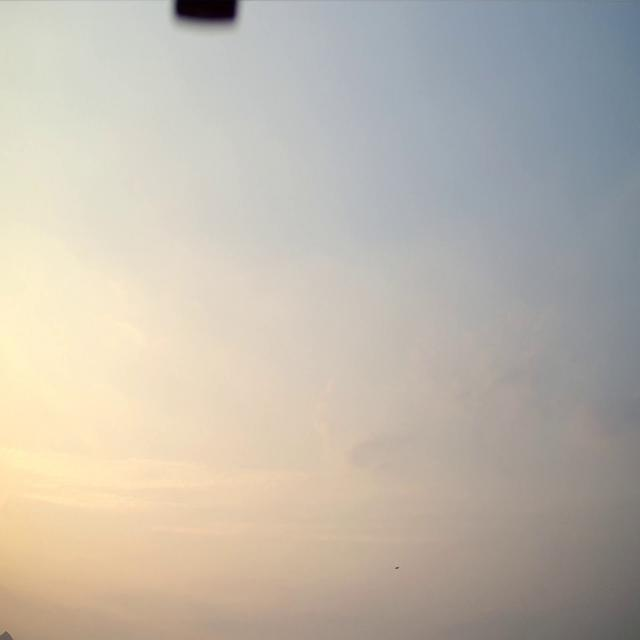UAV: (396, 566, 400, 570)
